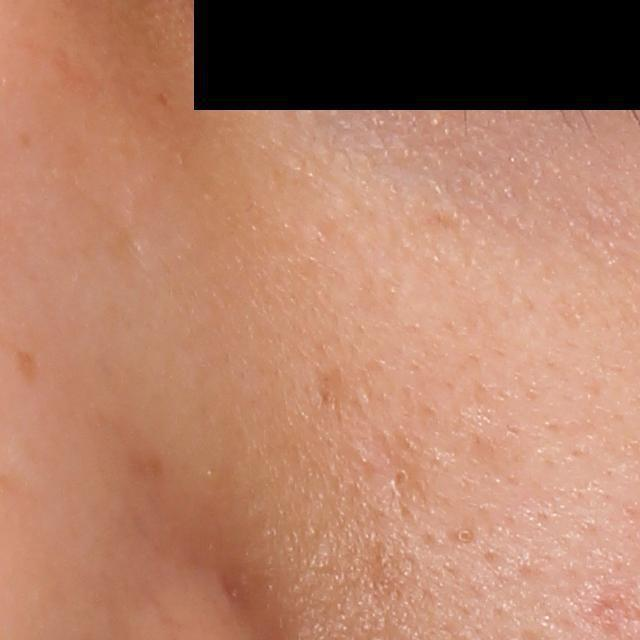comedo: (385, 466, 411, 494), (454, 525, 476, 545)
melasma: (16, 349, 41, 383)
